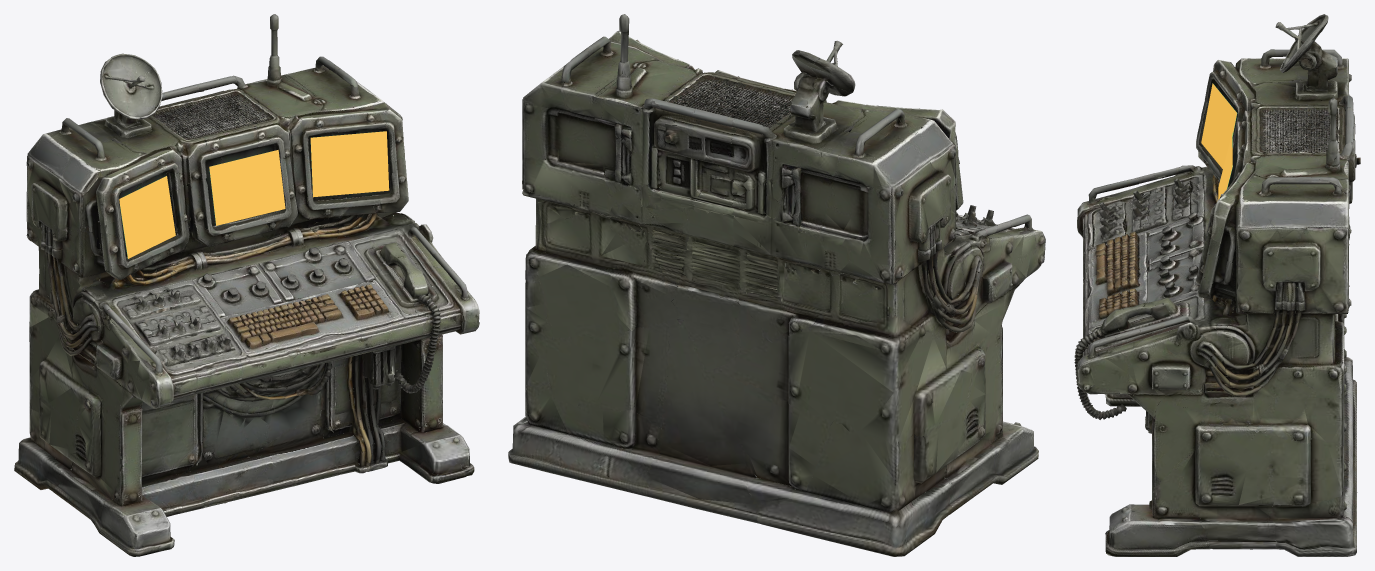
Rendered from comms-console.glb.
The picture shows the model from 3 angles, left to right: view 1: azimuth 30°, elevation 25°; view 2: azimuth 150°, elevation 25°; view 3: azimuth 270°, elevation 25°; orthographic projection. The views are drawn at different scales.
Parts seen in each view (by area): view 1: comms-console, comms-console-alert2, comms-console-alert1, comms-console-alert0; view 2: comms-console; view 3: comms-console, comms-console-alert0, comms-console-alert1.
Boxes of the visible parts, <box> form: comms-console: <box>14,14,479,556</box>; comms-console-alert2: <box>310,131,389,197</box>; comms-console-alert1: <box>209,150,285,225</box>; comms-console-alert0: <box>119,176,175,258</box>; comms-console: <box>508,14,1045,556</box>; comms-console: <box>1074,14,1360,556</box>; comms-console-alert0: <box>1201,83,1236,168</box>; comms-console-alert1: <box>1218,133,1232,199</box>.
Bounding box in the file's own units: 1.7 × 1.89 × 1.18.
Materials: 3 (1 with a texture image).
